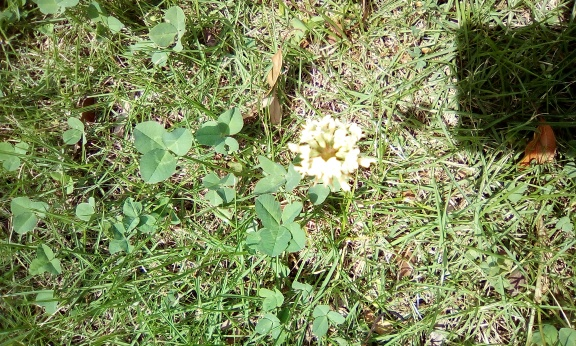4leaf: (253, 193, 306, 257)
